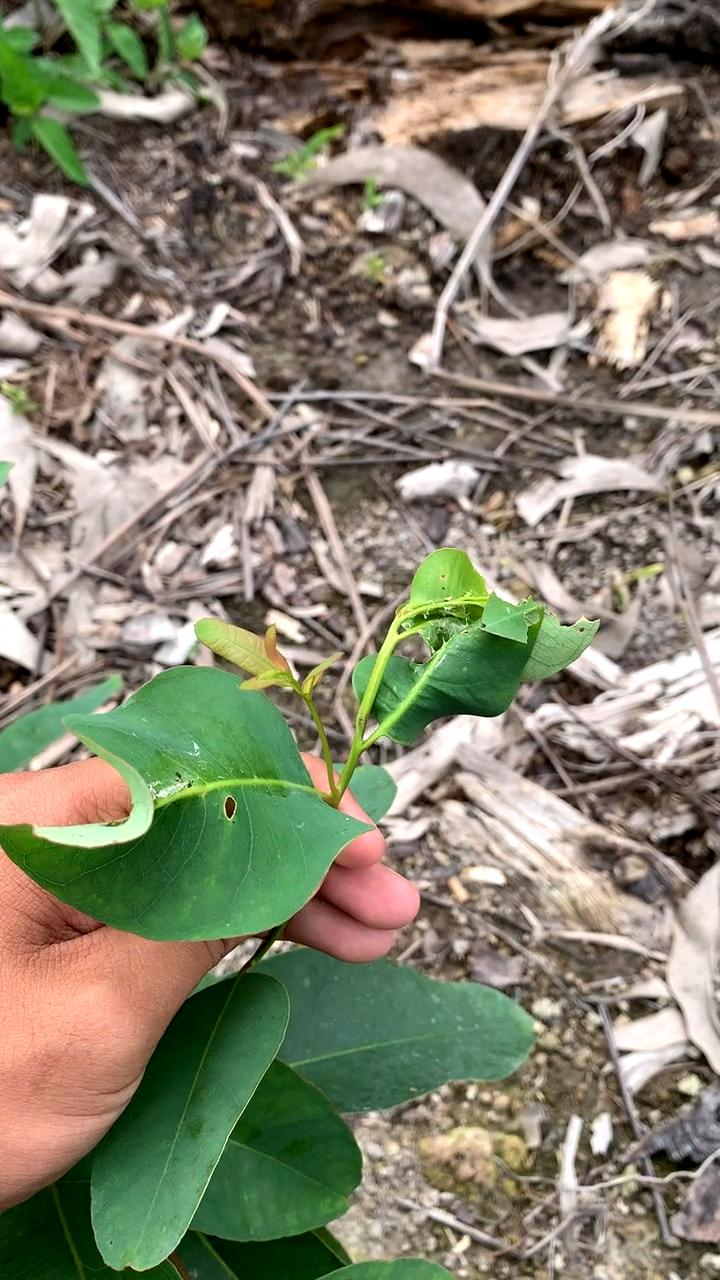Leaf Roller - Leaf: (338, 555, 591, 733)
